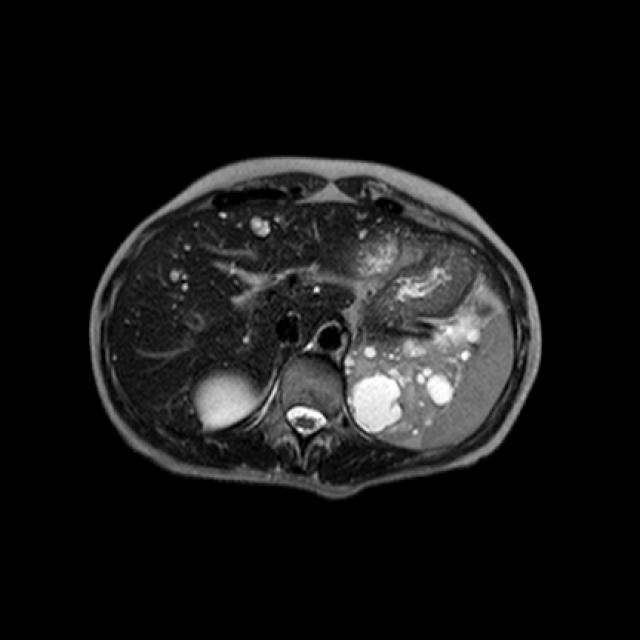sag: (190, 370, 260, 430)
sol: (343, 310, 485, 445)
